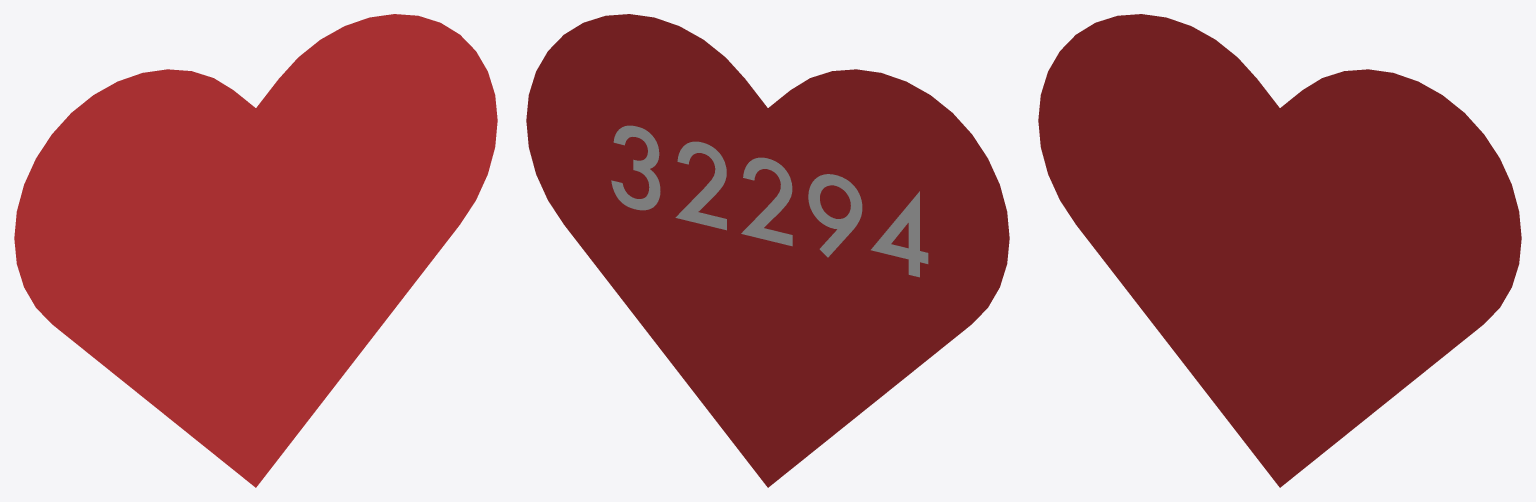
The model's file is hr_monitor_no_body.fbx.
3 renders of one model, left to right at view 1: azimuth 30°, elevation 25°; view 2: azimuth 150°, elevation 25°; view 3: azimuth 330°, elevation 25°, orthographic.
Visible parts, largest first — view 1: heartrate_monitor.260; view 2: heartrate_monitor.260; view 3: heartrate_monitor.260.
Boxes of the visible parts, box(x1,y1,x2,y2) form: heartrate_monitor.260: box(14, 14, 497, 487); heartrate_monitor.260: box(526, 14, 1009, 487); heartrate_monitor.260: box(1038, 14, 1521, 487).
Bounding box in the file's own units: 4.9 × 4.29 × 0.0215.
